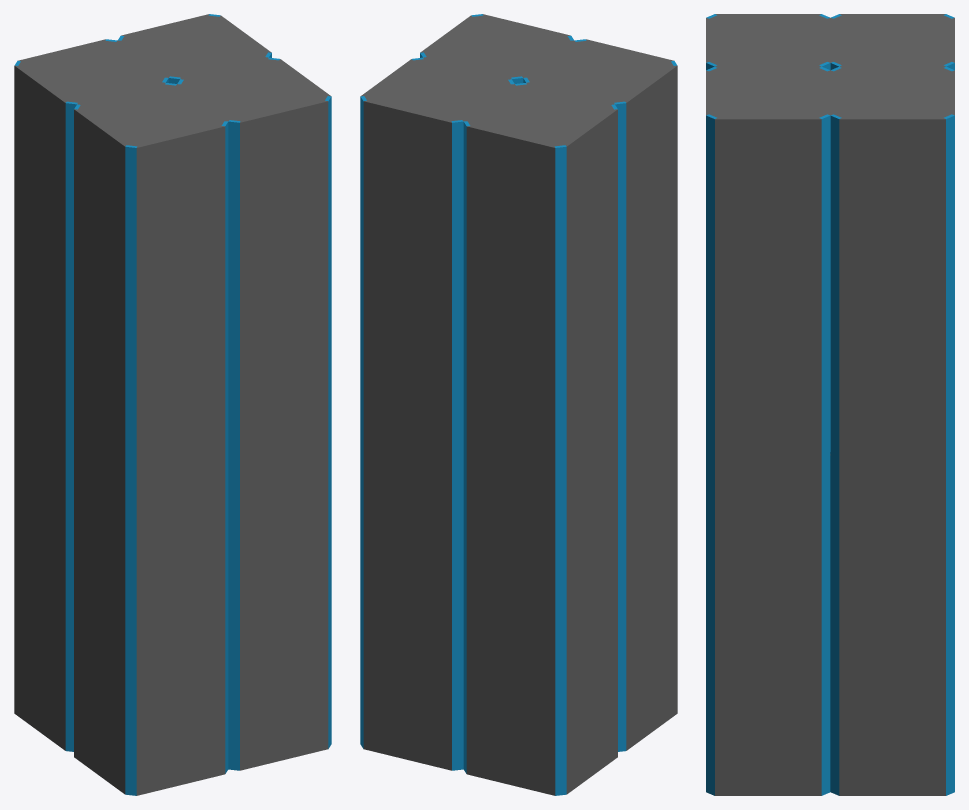
File: 4x4_Quader.2.fbx
3 renders of one model, left to right at view 1: azimuth 30°, elevation 25°; view 2: azimuth 150°, elevation 25°; view 3: azimuth 270°, elevation 25°, orthographic. The views are drawn at different scales.
Visible parts, largest first — view 1: Plane.000; view 2: Plane.000; view 3: Plane.000.
Boxes of the visible parts, left/top/right/bottom form: Plane.000: left=14, top=14, right=331, bottom=795; Plane.000: left=360, top=14, right=677, bottom=795; Plane.000: left=706, top=14, right=954, bottom=795.
Bounding box in the file's own units: 400 × 1200 × 400.
